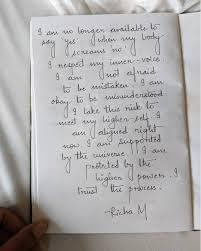text: (50, 88, 165, 119), (40, 31, 166, 59), (58, 144, 168, 175), (56, 108, 161, 140), (37, 21, 162, 47), (47, 55, 161, 81), (62, 132, 162, 154), (76, 182, 163, 206), (71, 122, 165, 143), (56, 65, 158, 84), (84, 156, 157, 182), (61, 77, 165, 95), (94, 166, 179, 188), (72, 100, 160, 116), (102, 201, 150, 223), (71, 44, 127, 58), (171, 215, 171, 215)
